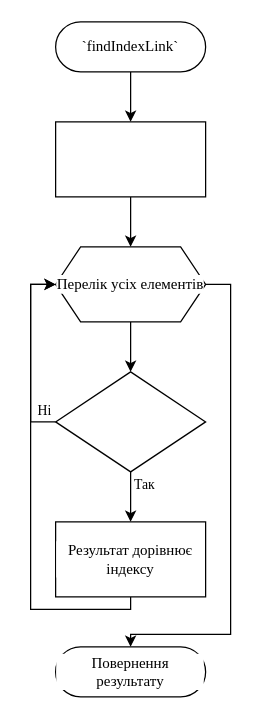
This 263x719 diagram has some shape labels left out. The box of each missing label's shape, as (x1, y1, x2, y2) in pixels:
Присвоэння результату значення - 1: (54, 121, 206, 197)
Шукаємий елемент дорівнює елементу за індексом: (54, 371, 206, 472)
